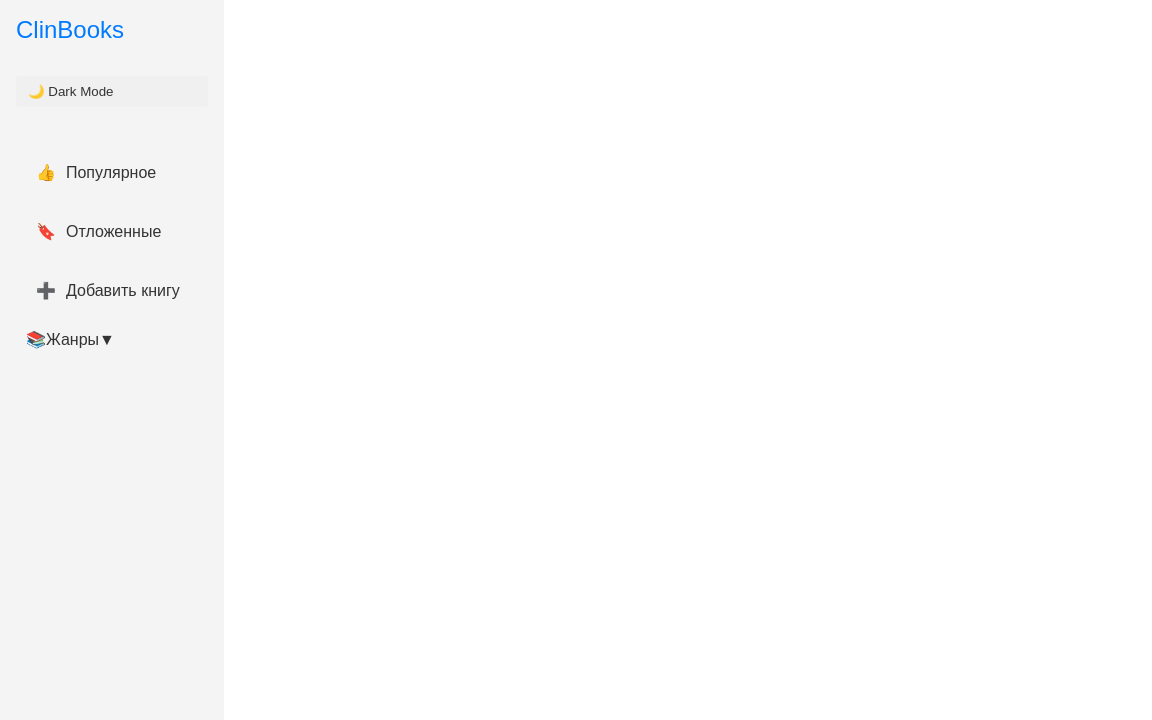
Scenario: Компонент Sidebar › переключает тему при клике на кнопку
The width and height of the screenshot is (1152, 720).
Step 1. Click the button → (112, 92), box x1=16 y1=76 x2=208 y2=107
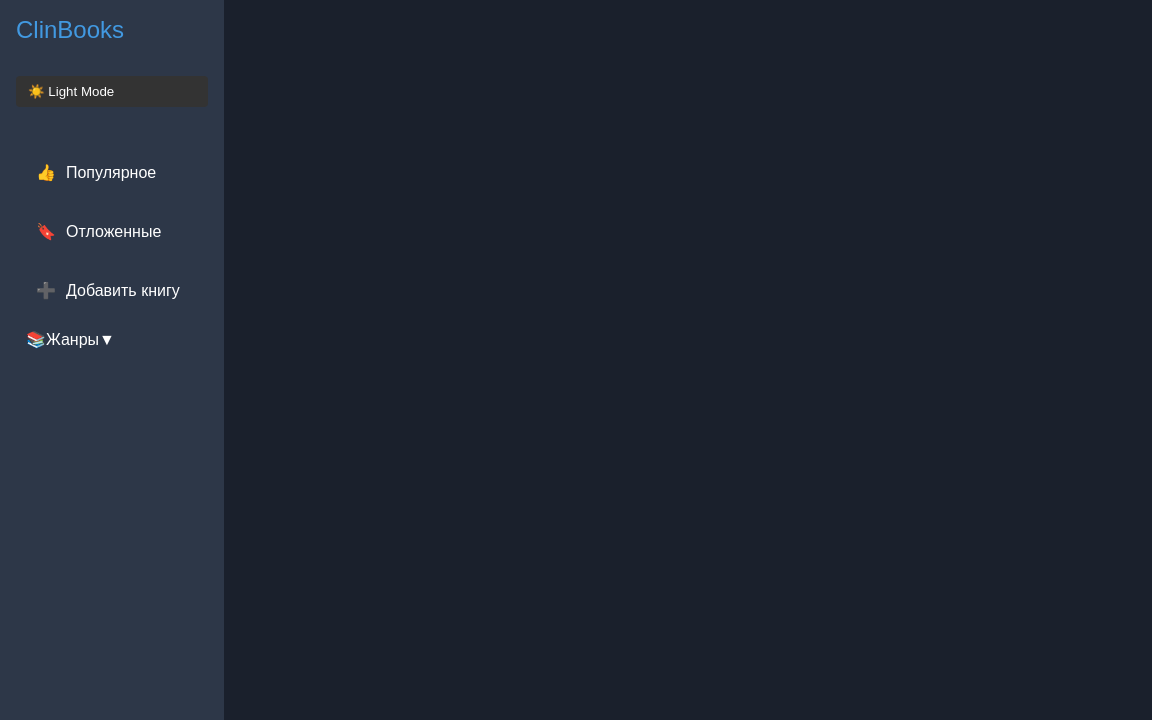
Result: the button shows "Light Mode"
Step 2. Click the button → (112, 92), box x1=16 y1=76 x2=208 y2=107
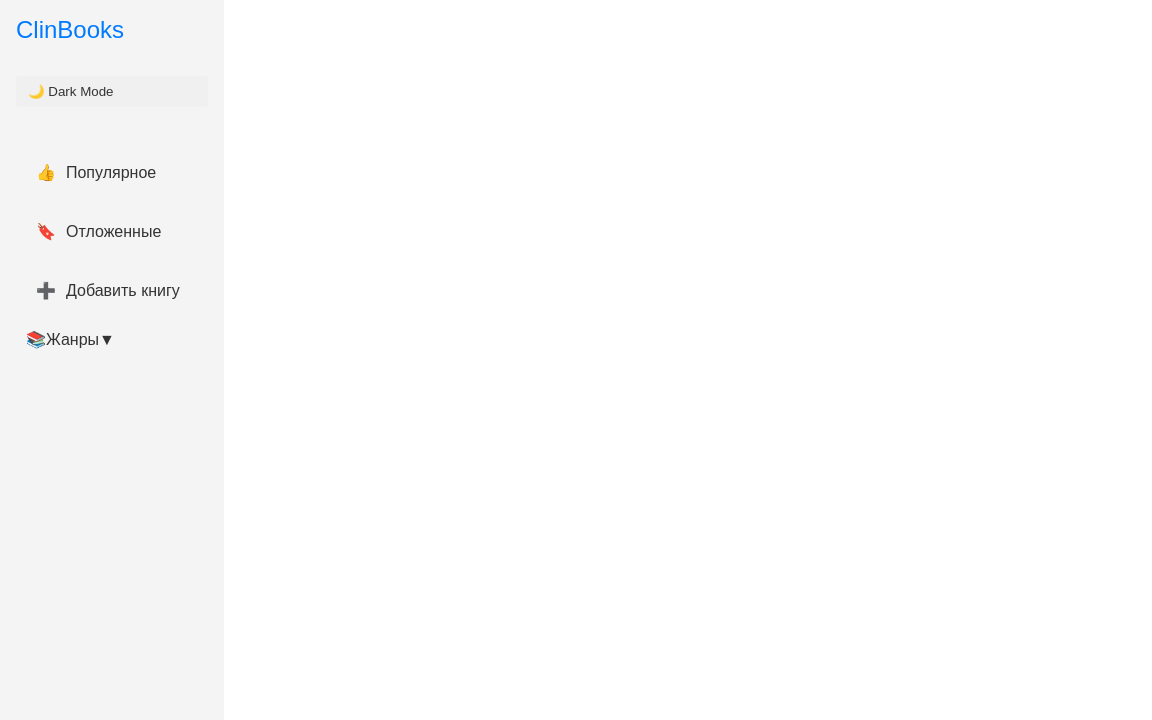
Result: the button shows "Dark Mode" at x1=16 y1=76 x2=208 y2=107
